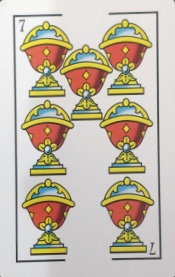7c: (11, 10, 159, 35)
